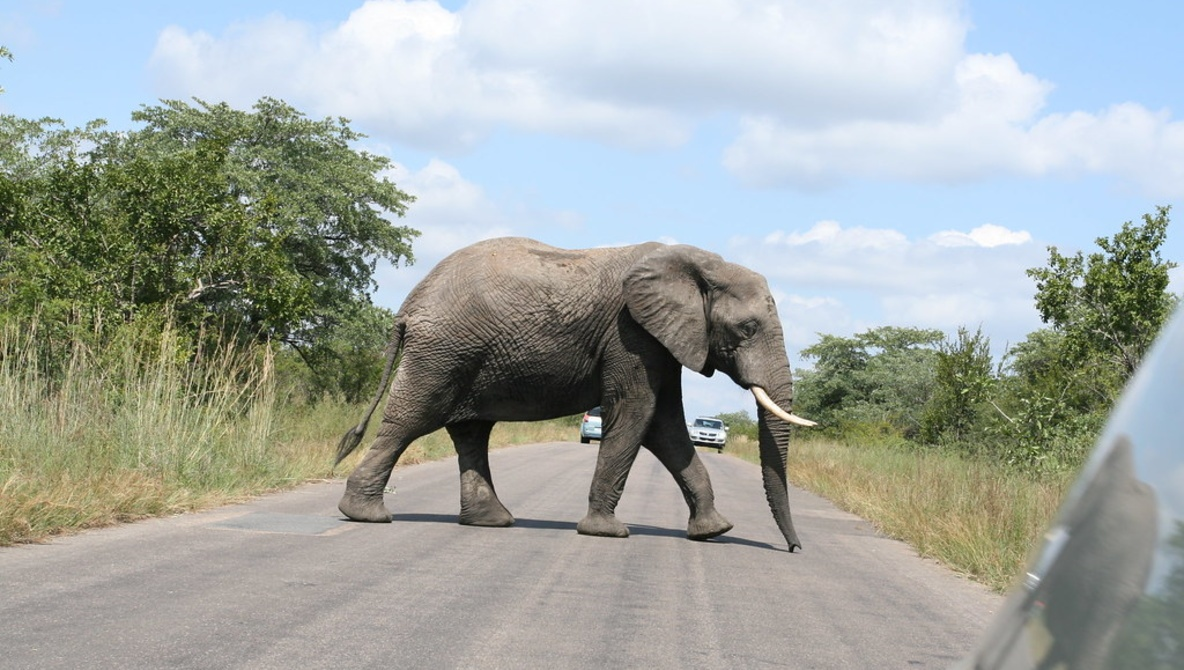elephant: (332, 235, 805, 551)
